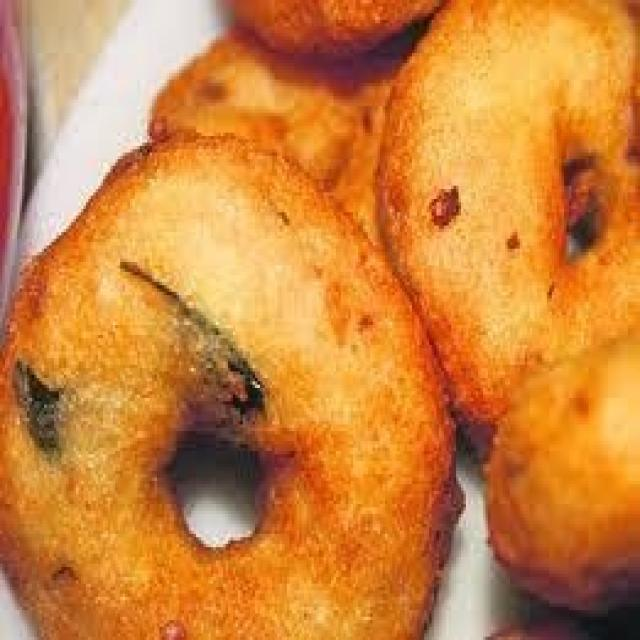medu vadai: (14, 0, 640, 637)
